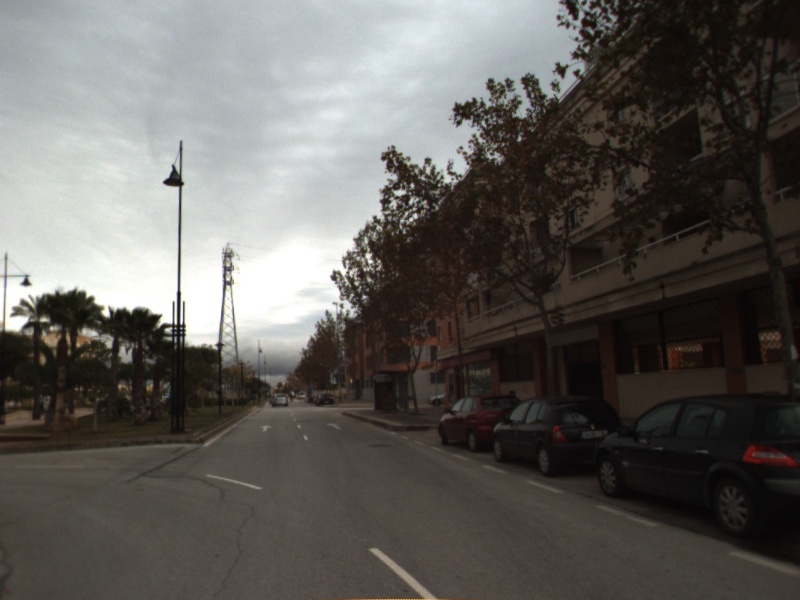STRAIGHT: (325, 420, 343, 431), (258, 423, 275, 433)
